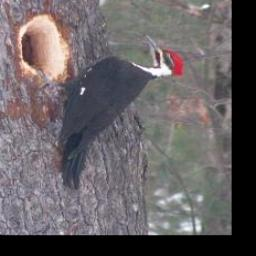Woodpecker: (29, 34, 188, 190)
